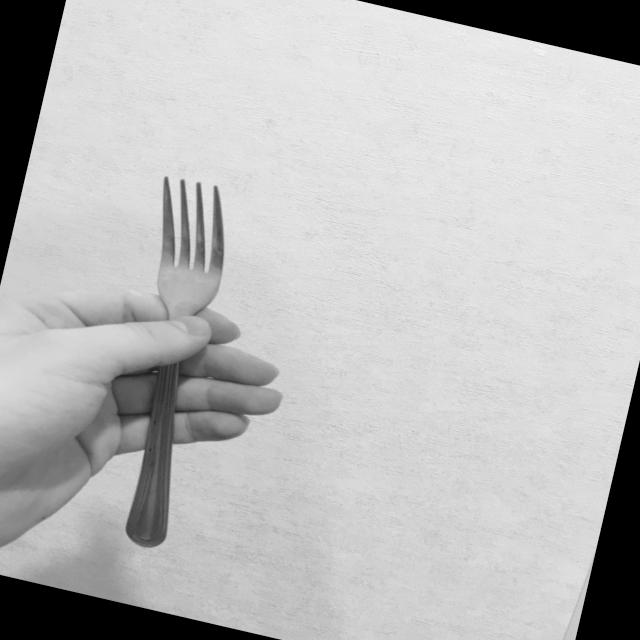fork: (76, 170, 248, 557)
